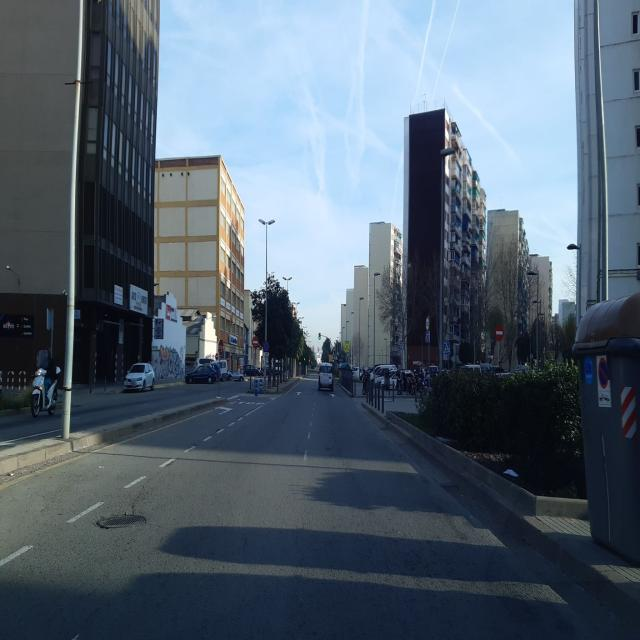forb_stopping: (597, 356, 609, 391)
forb_waiting: (263, 342, 269, 352)
